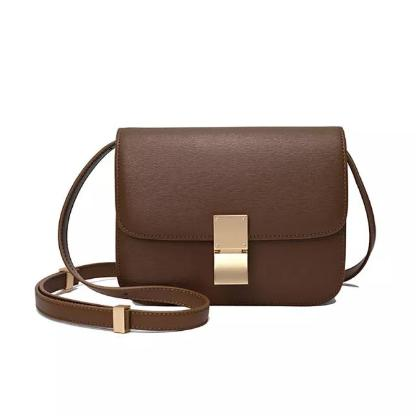bag: (26, 114, 378, 334)
